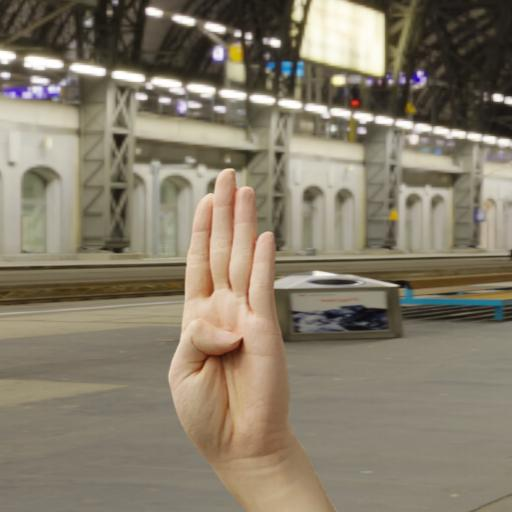B: (166, 161, 294, 466)
